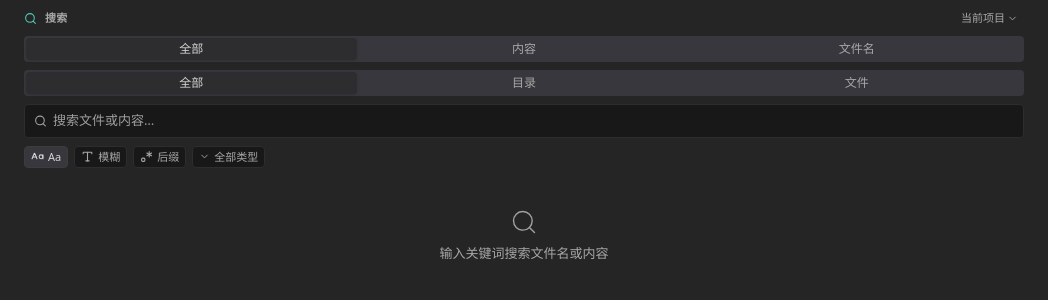
SearchPanel › filters filename hits to directories only
This screenshot has width=1048, height=300.
Click the tab "文件名": click(857, 49) [691,38,1022,60]
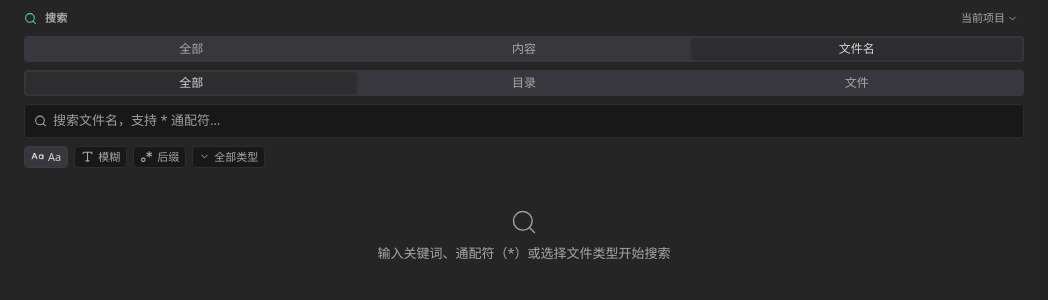
In the field with placeholder "搜索文件名，支持 * 通配符…": (524, 121) [24,104,1024,138], type "app"
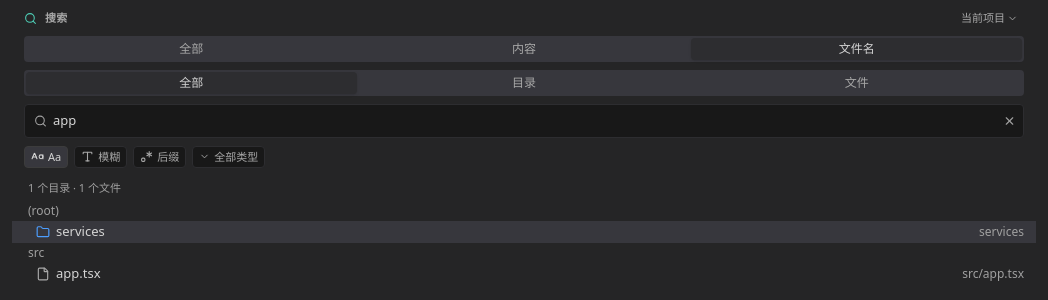
expect the text "app.tsx" is shown: met, box [56,264,101,283]
Click the tab "目录": click(524, 83) [359,72,689,94]
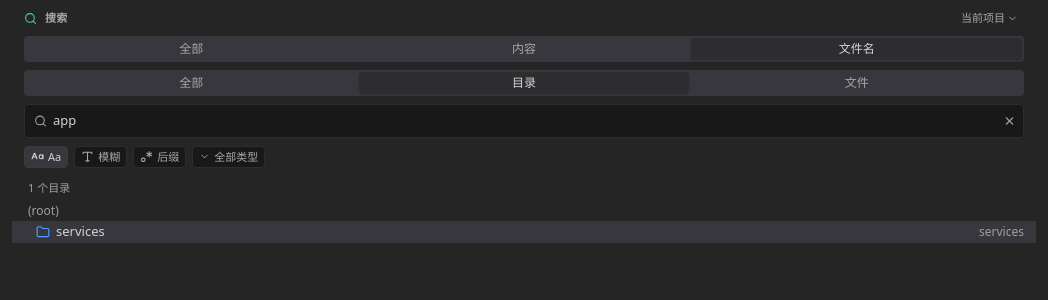
expect the 1st text "services" is shown: met, box [56,222,105,241]
expect the list item "app.tsx" is gone: met
